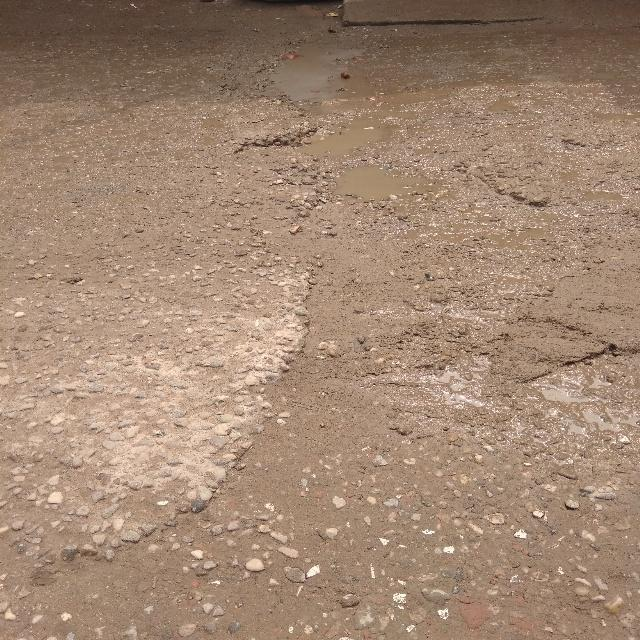Surface Erosion: (108, 20, 640, 640)
